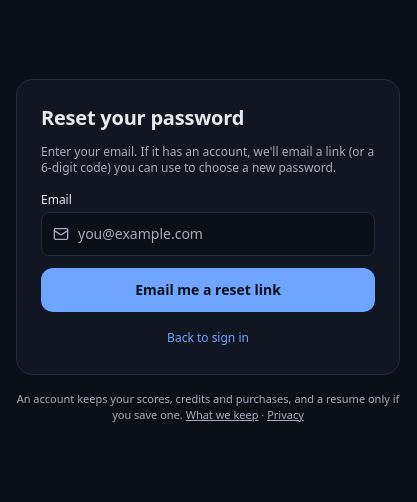
4. a refused reset says what is true and offers a way that can work › a 200 'not proven' answer (stale_session) offers a fresh link, never Try again
Expected: the heading "Reset your password" is shown, [41,104,244,130]
In the field labelled "Email": (208, 234) [41,212,375,256], type "gmailer@example.com"
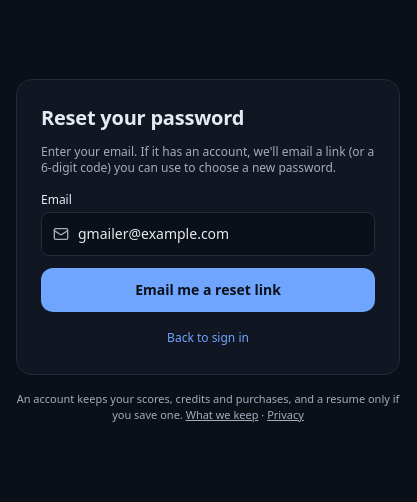
Click the button "Email me a reset link": (208, 290) [41,268,375,312]
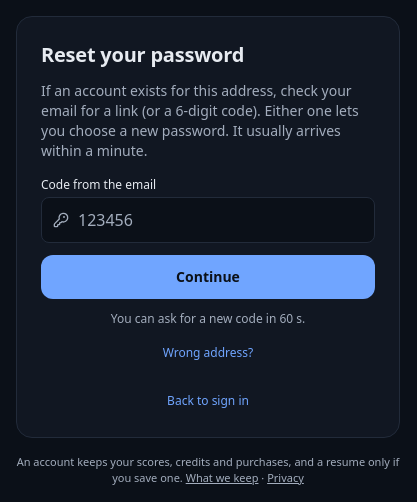
In the field labelled "Code from the email": (208, 220) [41,196,375,242], type "654321"
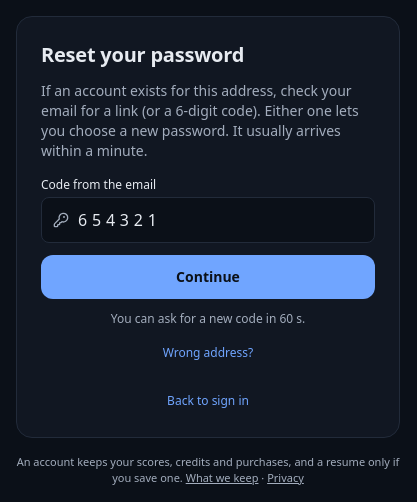
Click the button "Continue": (208, 276) [41,254,375,298]
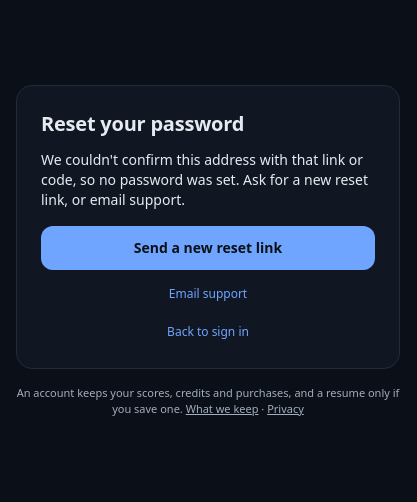
Expected: the message shows "We couldn't confirm this address with that link or code, so no password was set. Ask for a new reset link, or email support.", [41,150,368,208]
Click the button "Send a new reset link": (208, 248) [41,226,375,270]
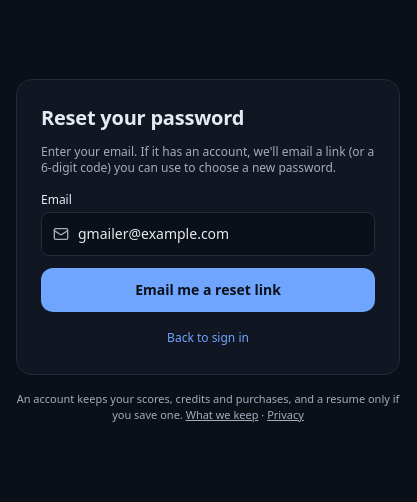
Expected: the field labelled "Email" holds "gmailer@example.com", [41,212,375,256]
